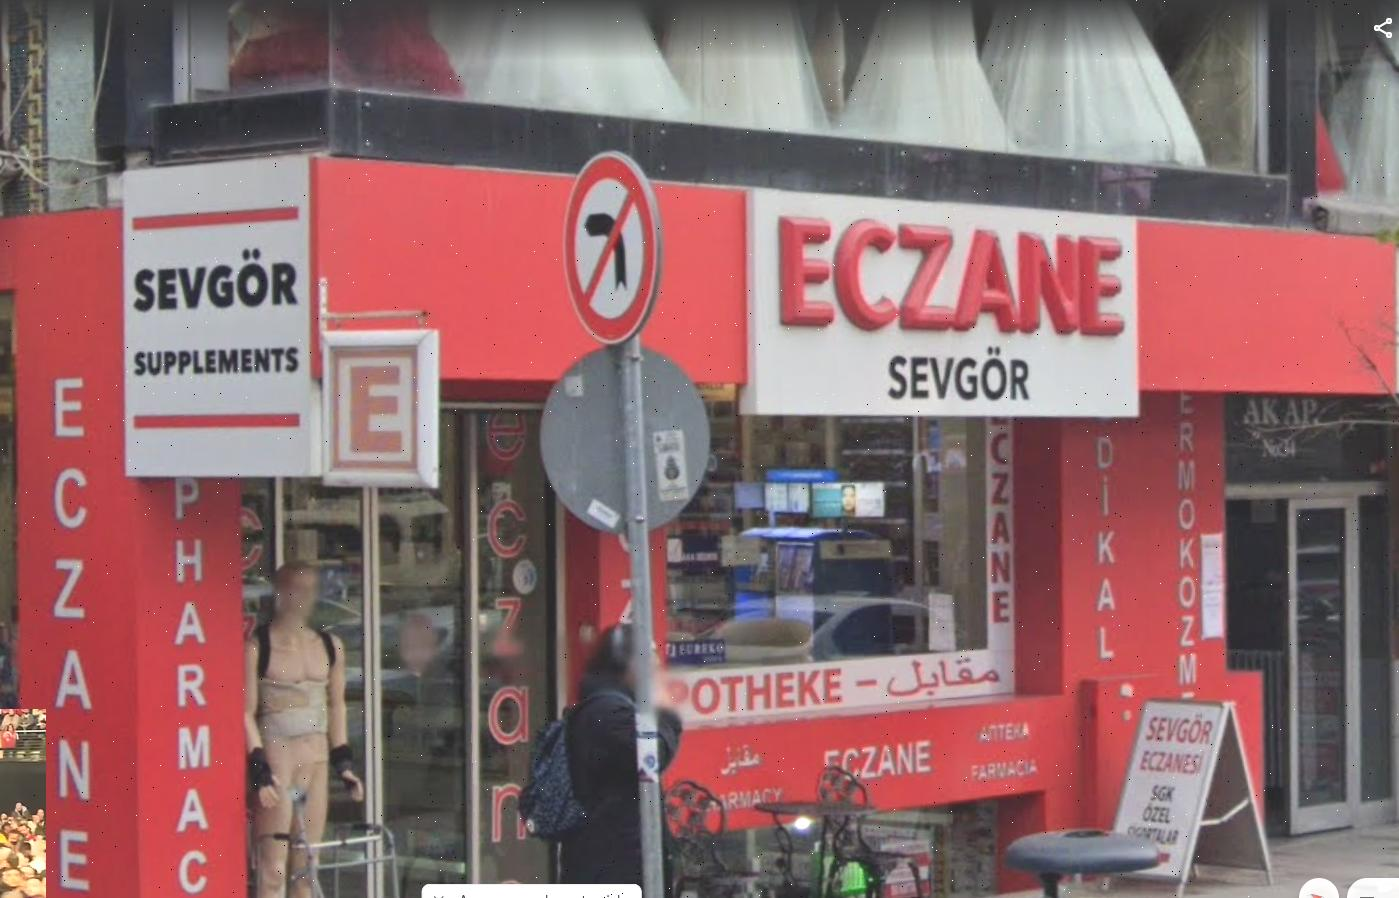leftturnsareforbidden: (569, 149, 650, 344)
